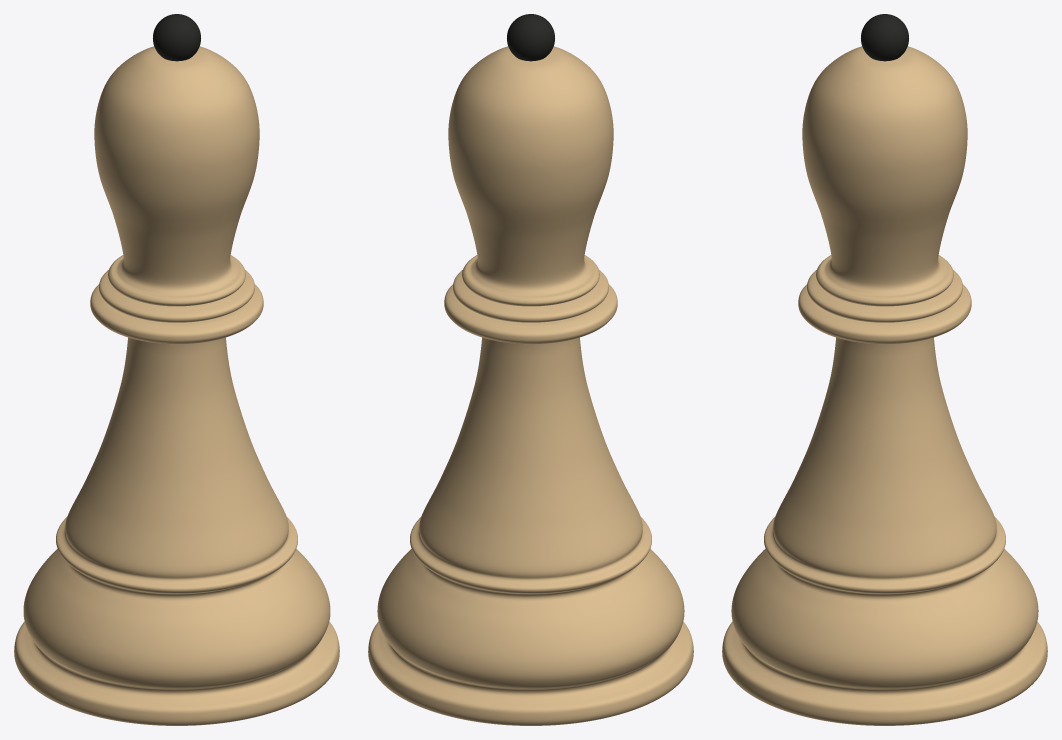
File: bishop.glb
The picture shows the model from 3 angles, left to right: view 1: azimuth 30°, elevation 25°; view 2: azimuth 150°, elevation 25°; view 3: azimuth 270°, elevation 25°; orthographic projection.
Visible parts, largest first — view 1: Bishop.002; view 2: Bishop.002; view 3: Bishop.002.
Boxes of the visible parts, box(x1,y1,x2,y2) form: Bishop.002: box(14, 14, 339, 725); Bishop.002: box(368, 14, 693, 725); Bishop.002: box(722, 14, 1047, 725).
Bounding box in the file's own units: 0.0357 × 0.0788 × 0.0357.
